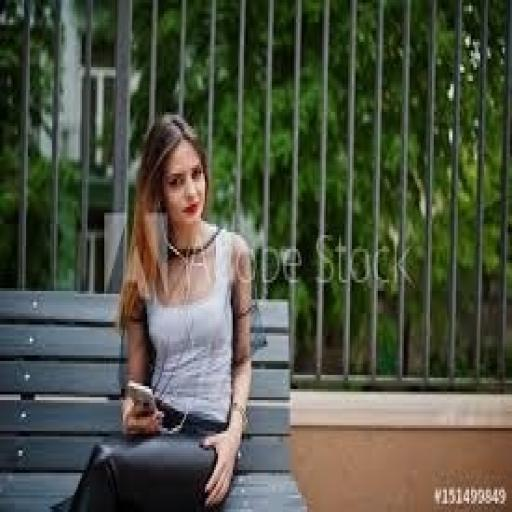listening_to_music: (61, 112, 257, 509)
